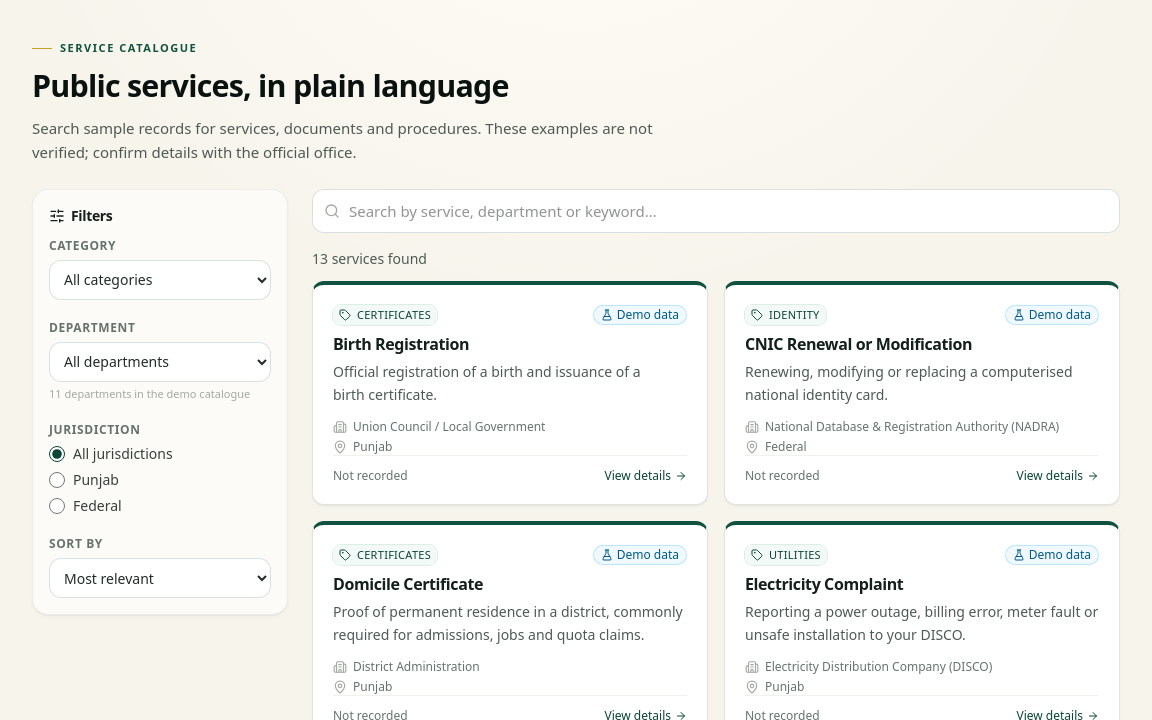
Test case: Service catalogue › filters by search term
The image size is (1152, 720).
Check: the heading "Domicile Certificate" is shown, box 333,573 -> 483,595
Type "domicile" into the search field named "Search services" at x=716, y=211, box 312,189 -> 1120,233
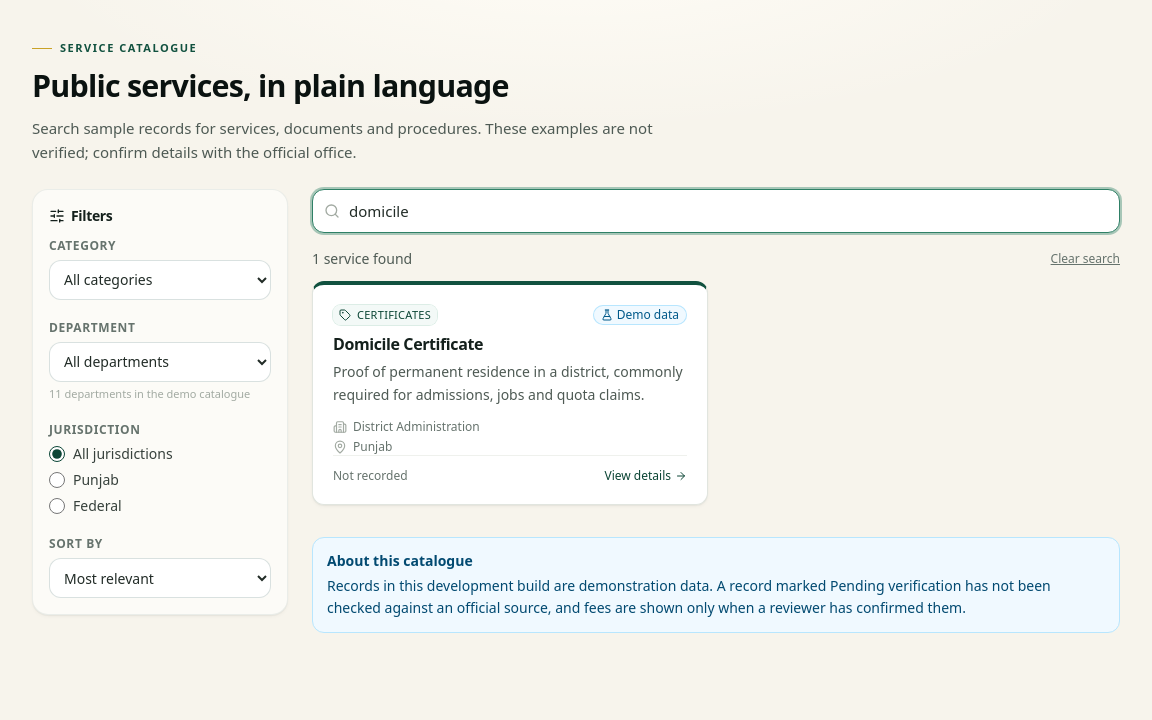
Check: the heading "Domicile Certificate" is shown, box 333,333 -> 483,355
Check: the link "Electricity Complaint" is gone
